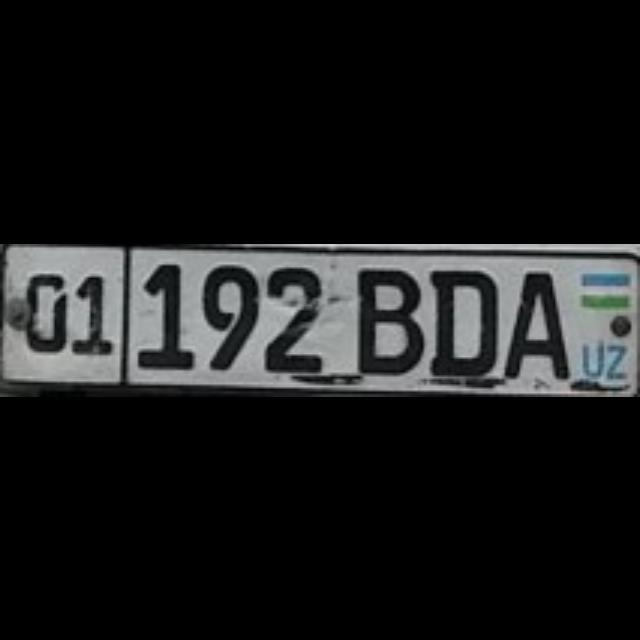0: (21, 270, 63, 348)
1: (133, 262, 190, 366), (66, 270, 108, 352)
2: (258, 261, 318, 369)
9: (198, 262, 256, 366)
A: (499, 267, 565, 375)
B: (352, 264, 418, 372)
D: (426, 264, 496, 372)
